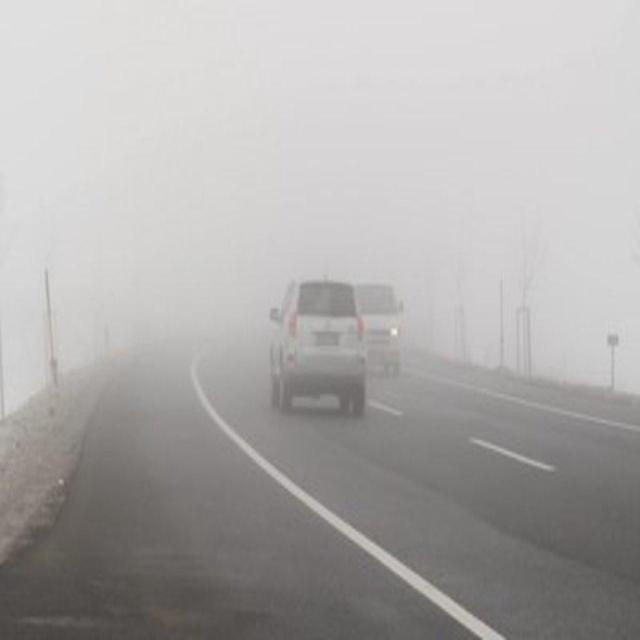Car: (268, 272, 367, 420)
Van: (356, 277, 404, 377)
